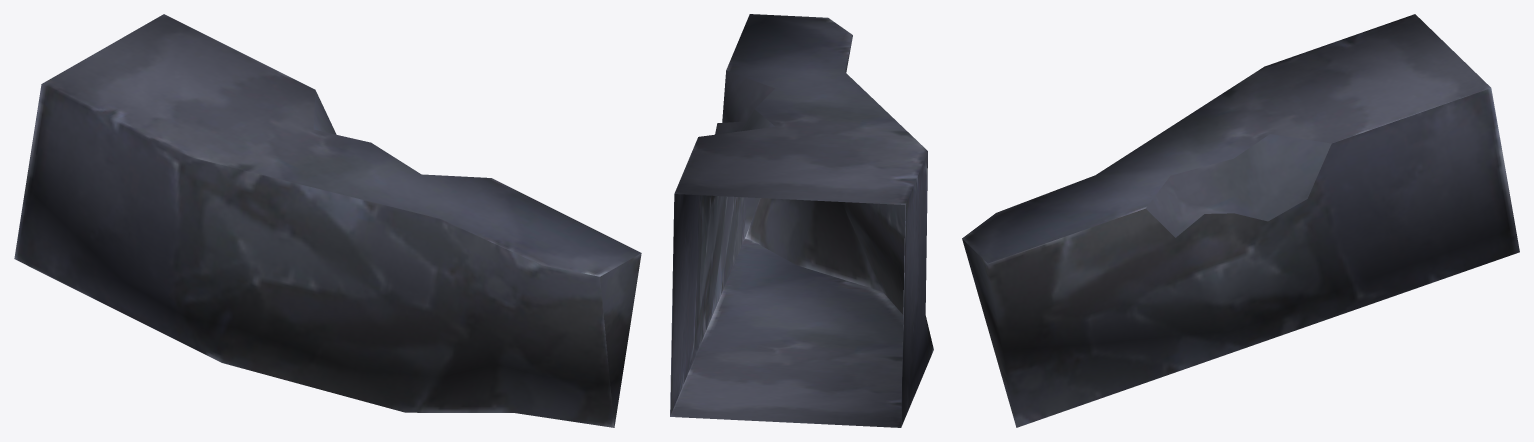
Rendered from Bedaying_shizuoposui.FBX.
3 views of the same model, side by side, from view 1: azimuth 30°, elevation 25°; view 2: azimuth 150°, elevation 25°; view 3: azimuth 270°, elevation 25° (orthographic). The views are drawn at different scales.
Visible parts, largest first — view 1: Bedaying_shizuoposui; view 2: Bedaying_shizuoposui; view 3: Bedaying_shizuoposui.
Boxes of the visible parts, <box> form: Bedaying_shizuoposui: <box>14,14,641,427</box>; Bedaying_shizuoposui: <box>670,14,933,427</box>; Bedaying_shizuoposui: <box>962,14,1519,427</box>.
Size of the model in its own units: 163 by 224 by 112.
